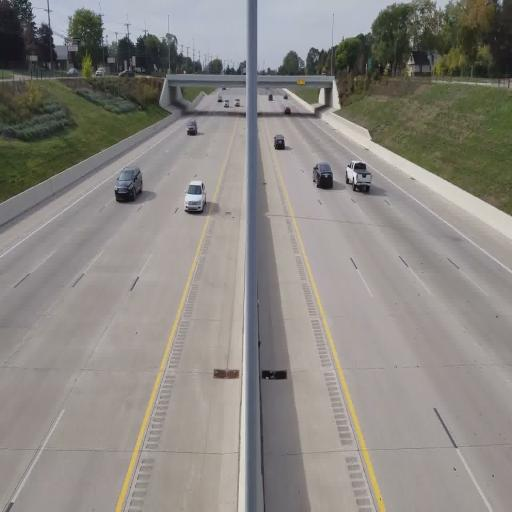Car: (114, 165, 143, 203), (346, 160, 372, 192), (184, 179, 207, 213), (312, 161, 333, 189), (186, 119, 198, 136), (274, 134, 285, 149)
